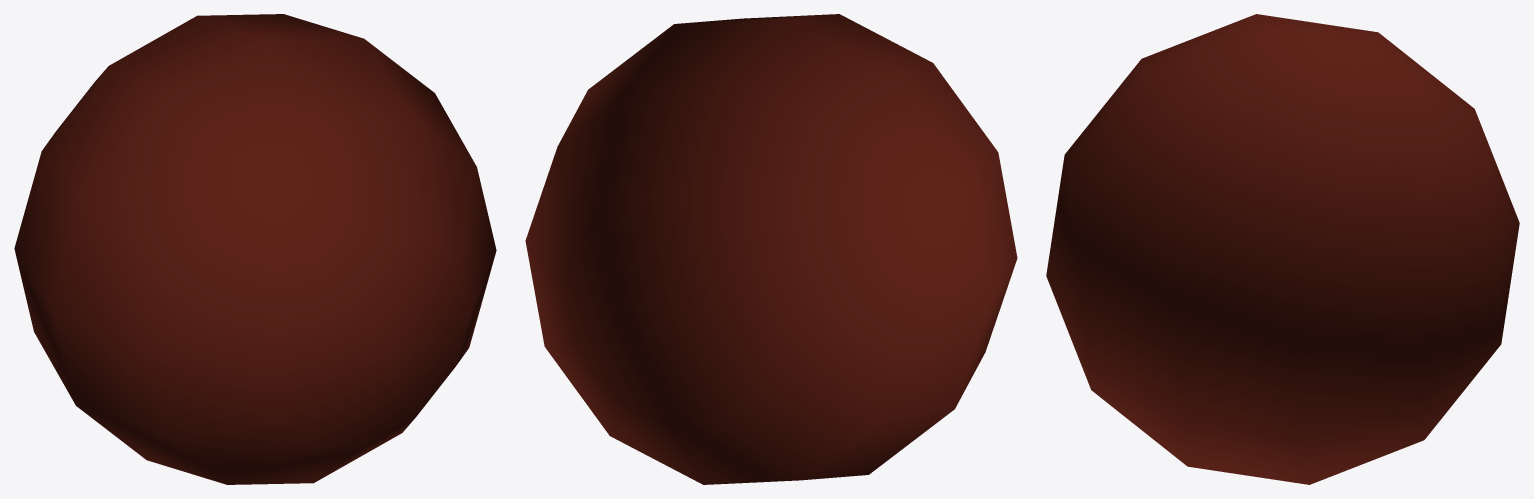
Rendered from berry.obj.
The picture shows the model from 3 angles, left to right: view 1: azimuth 30°, elevation 25°; view 2: azimuth 150°, elevation 25°; view 3: azimuth 270°, elevation 25°; orthographic projection. The views are drawn at different scales.
Visible parts, largest first — view 1: berry11; view 2: berry11; view 3: berry11.
Part boxes in pixels (box(x1,y1,x2,y2)): berry11: box(14, 14, 496, 484); berry11: box(525, 14, 1017, 484); berry11: box(1046, 14, 1519, 484).
Size of the model in its own units: 1.01 by 1.01 by 1.
Materials: 1 (1 with a texture image).
